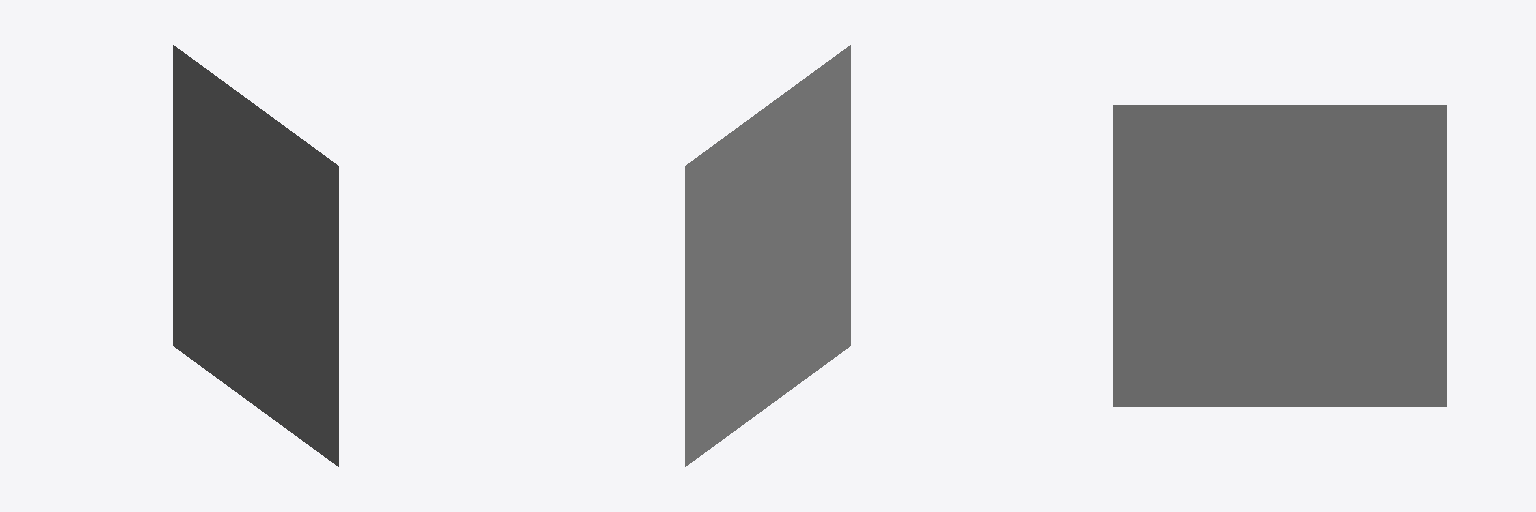
Rendered from posx.obj.
The picture shows the model from 3 angles: view 1: azimuth 30°, elevation 25°; view 2: azimuth 150°, elevation 25°; view 3: azimuth 270°, elevation 25°; orthographic projection.
Visible parts, largest first — view 1: Grid.004; view 2: Grid.004; view 3: Grid.004.
Part boxes in pixels (left/top/right/bottom): Grid.004: left=173, top=45, right=338, bottom=466; Grid.004: left=685, top=45, right=850, bottom=466; Grid.004: left=1113, top=105, right=1446, bottom=406.
Bounding box in the file's own units: 0 × 15.87 × 15.91.